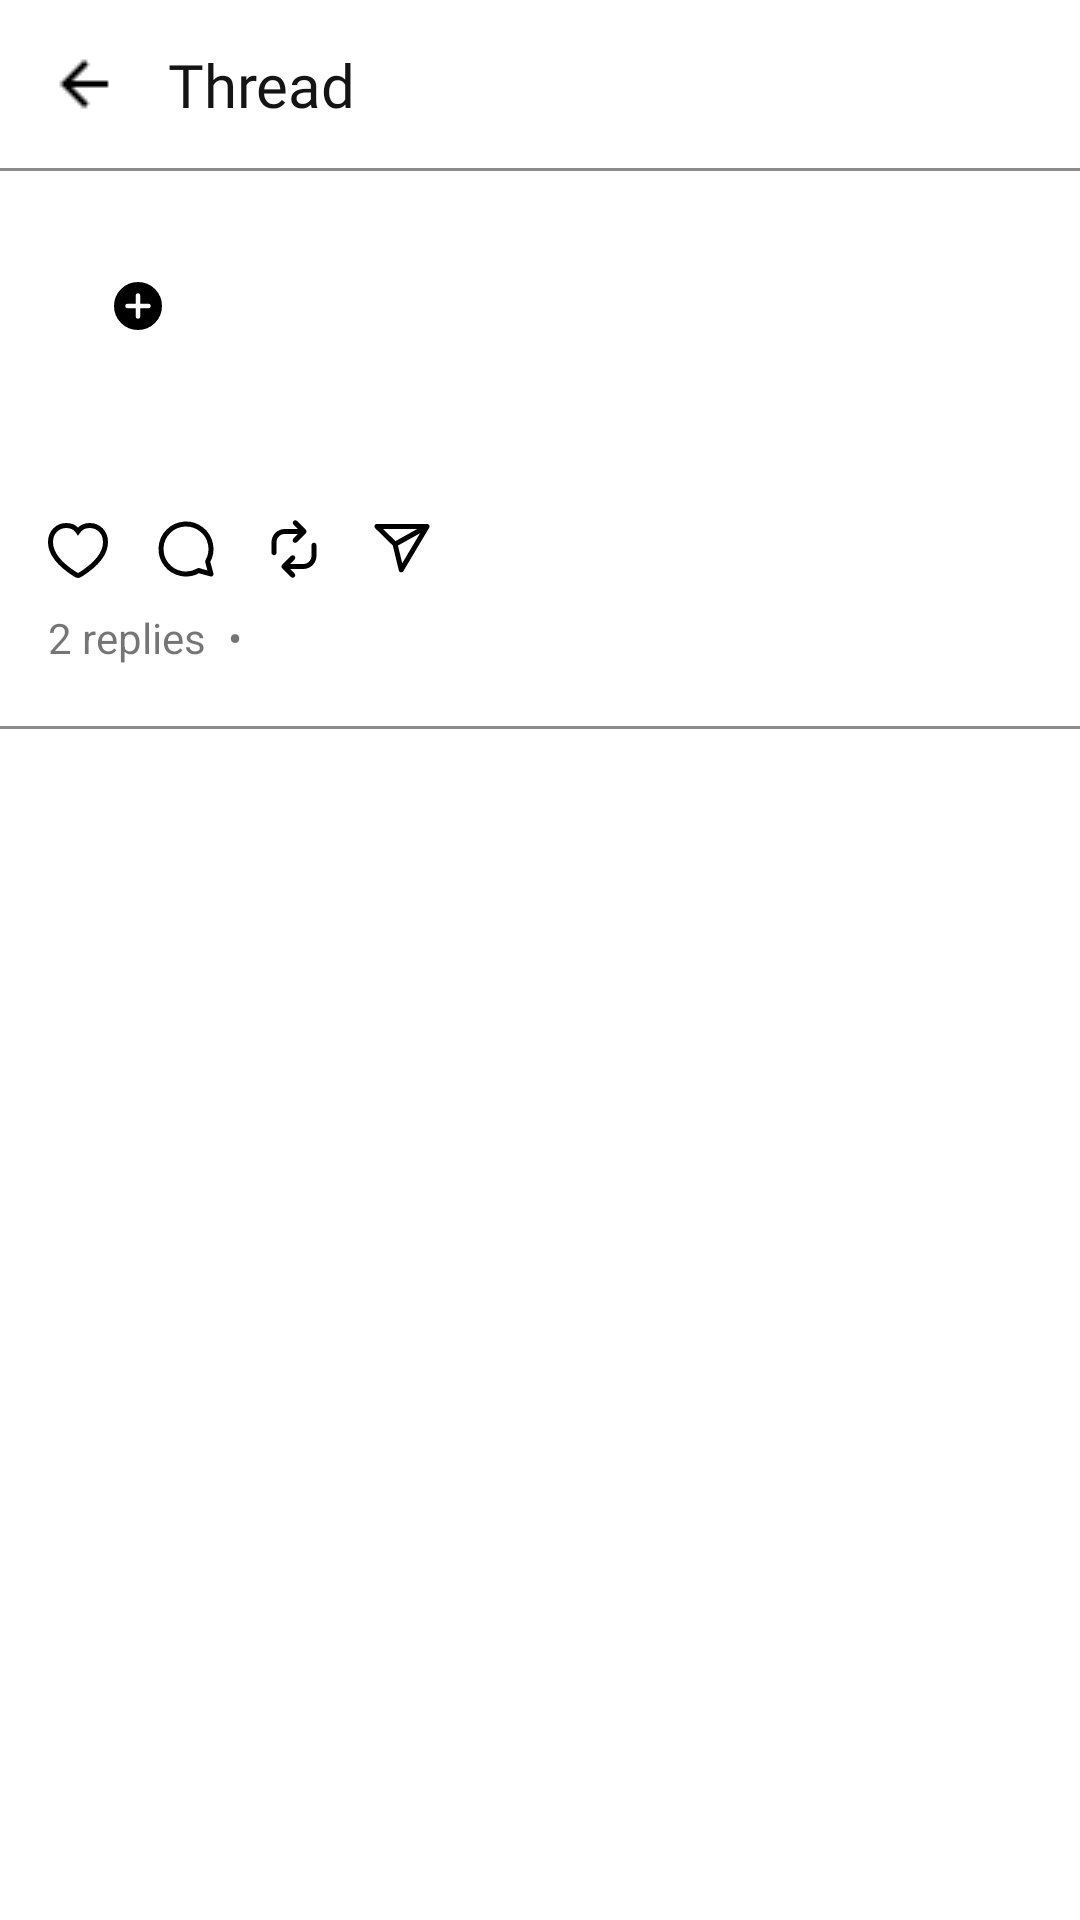

Screen size 1080x1920. Icon name, then its center in pixels as [x,y]:
arrow left: [84,84]
comment: [186,549]
lke: [78,550]
repost: [294,549]
share: [402,548]
subscribe badge: [138,306]
